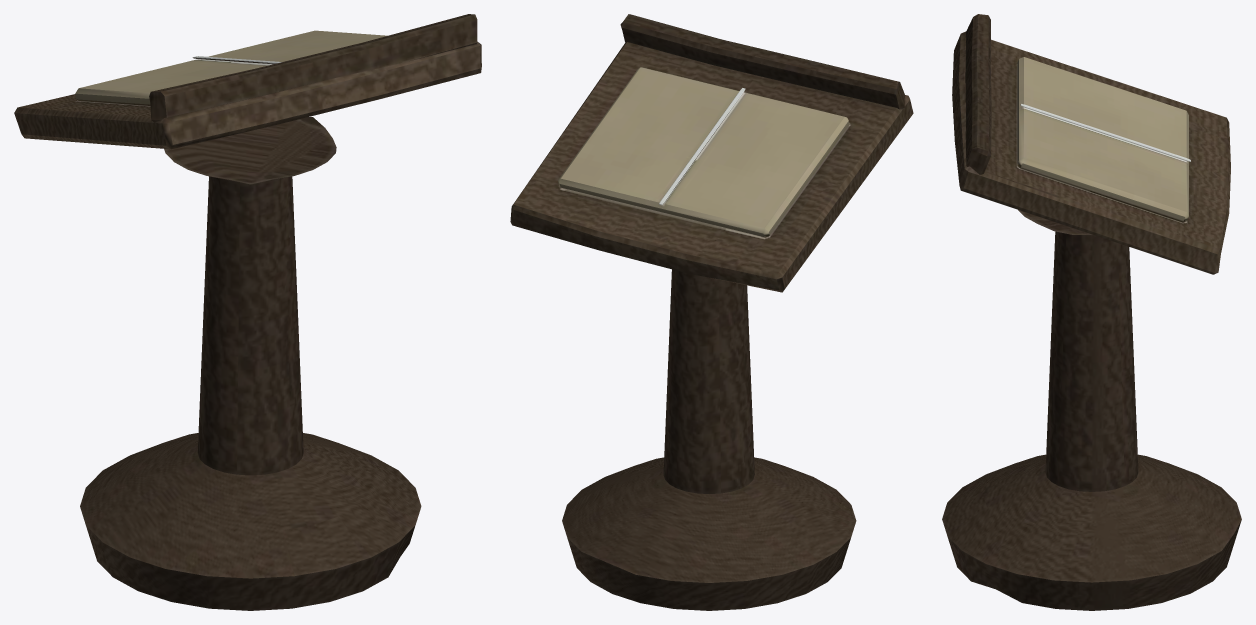
The model's file is lectern.glb.
3 views of the same model, side by side, from view 1: azimuth 30°, elevation 25°; view 2: azimuth 150°, elevation 25°; view 3: azimuth 270°, elevation 25° (orthographic). The views are drawn at different scales.
Visible parts, largest first — view 1: lectern; view 2: lectern; view 3: lectern.
Boxes of the visible parts, x1,y1,x2,y2 form: lectern: [14, 14, 481, 610]; lectern: [510, 14, 913, 610]; lectern: [942, 14, 1241, 610].
Bounding box in the file's own units: 0.6388 × 1.01 × 0.58.
1 material, 1 textured.
